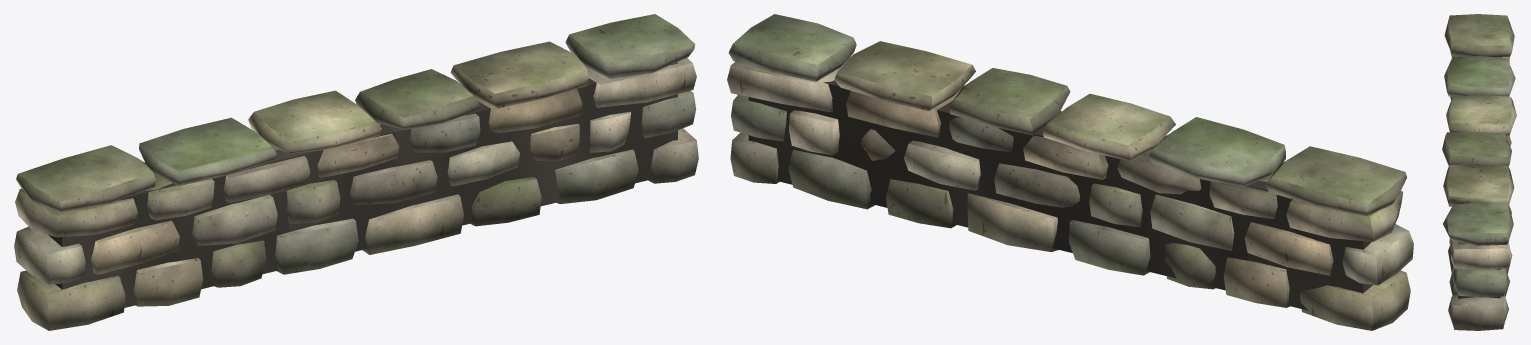
The model's file is stone_wall_straight_lod1.gltf.
3 views of the same model, side by side, from view 1: azimuth 30°, elevation 25°; view 2: azimuth 150°, elevation 25°; view 3: azimuth 270°, elevation 25° (orthographic). The views are drawn at different scales.
Parts seen in each view (by area): view 1: Wall, Core; view 2: Wall, Core; view 3: Wall, Core.
Boxes of the visible parts, left/top/right/bottom form: Wall: left=14, top=14, right=698, bottom=330; Core: left=48, top=62, right=677, bottom=307; Wall: left=727, top=14, right=1413, bottom=330; Core: left=748, top=80, right=1372, bottom=310; Wall: left=1442, top=14, right=1516, bottom=330; Core: left=1458, top=56, right=1500, bottom=298.
Bounding box in the file's own units: 4 × 0.8185 × 0.5549.
2 materials, 1 textured.
